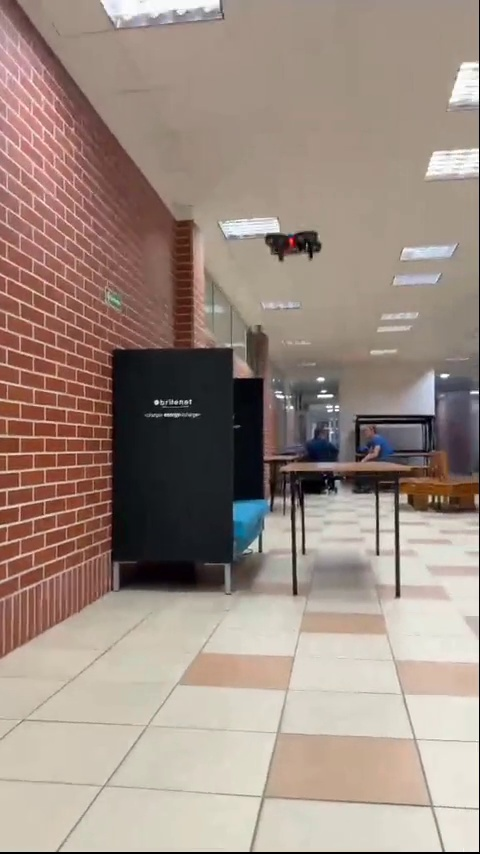drone: (266, 235, 319, 260)
no vest: (351, 422, 387, 462), (305, 419, 339, 455)
